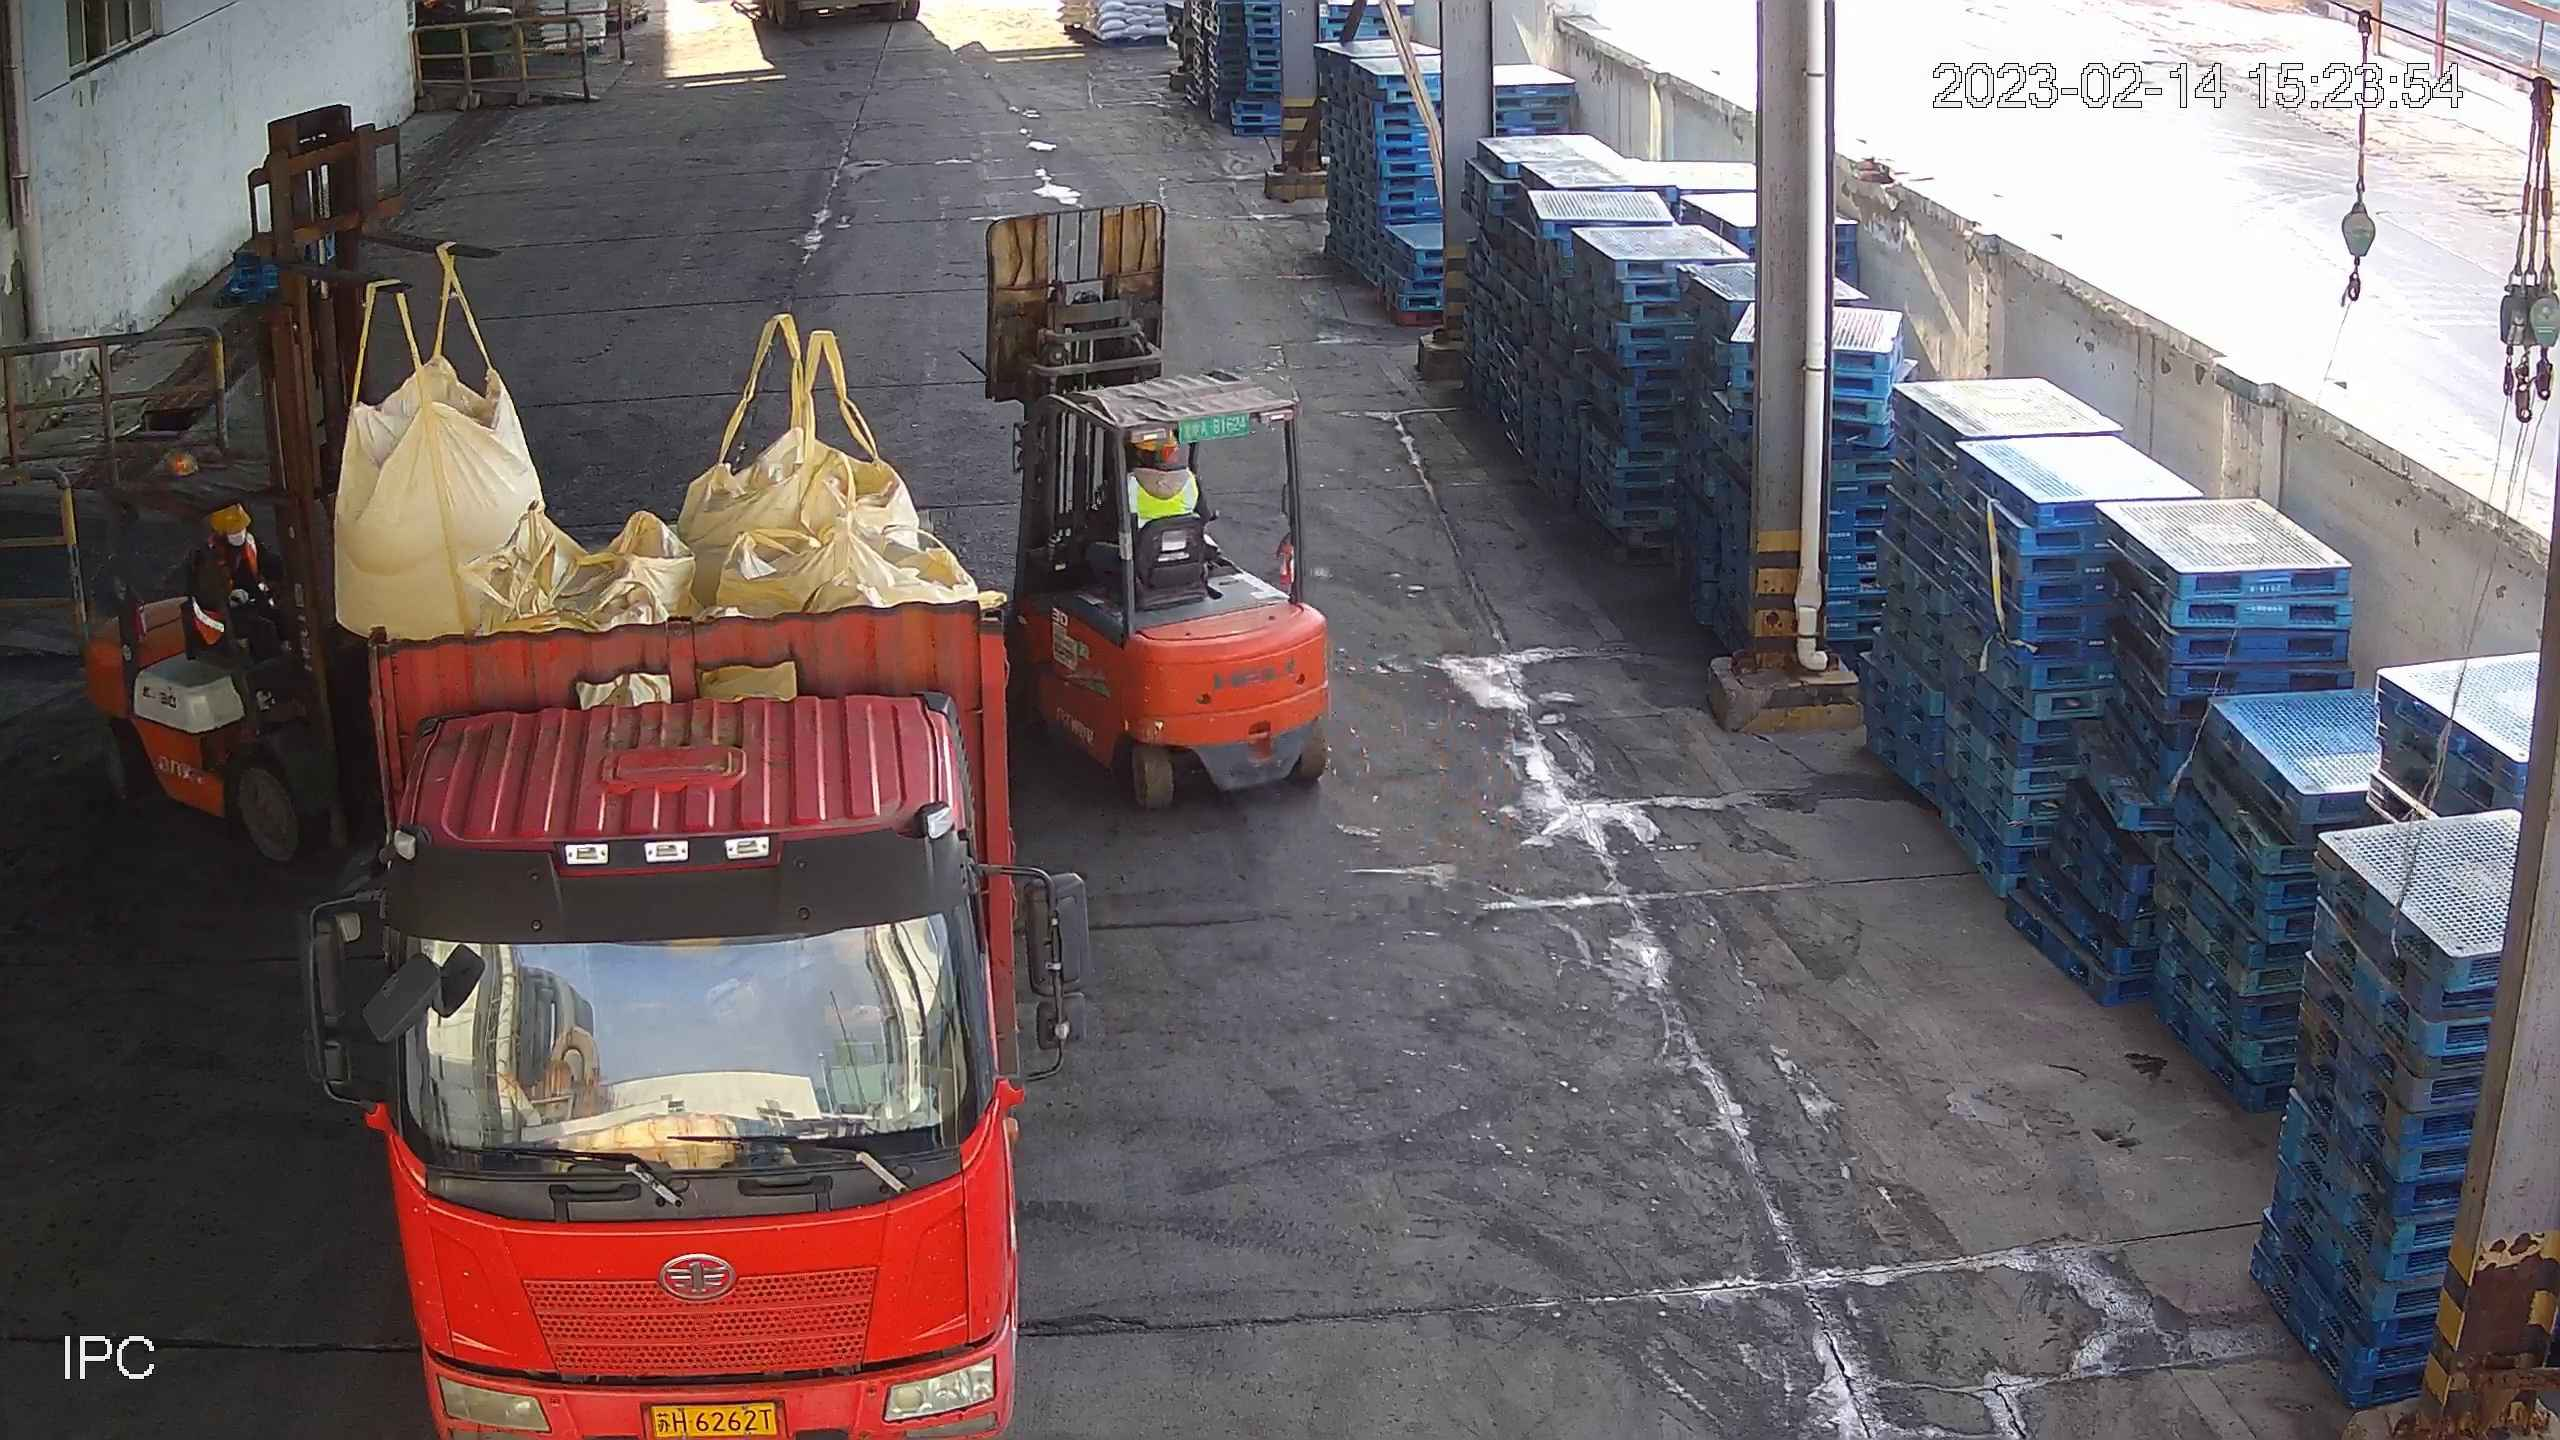helmet: (211, 504, 253, 533)
people: (175, 496, 296, 706)
truck: (303, 544, 1100, 1440)
